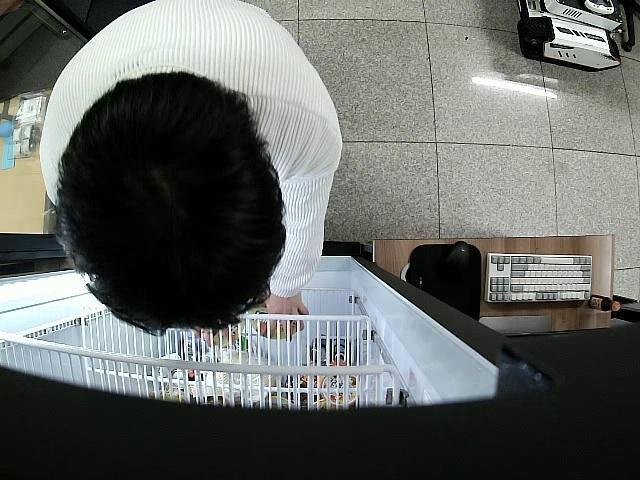03_chapagetti_L: (248, 290, 301, 339)
